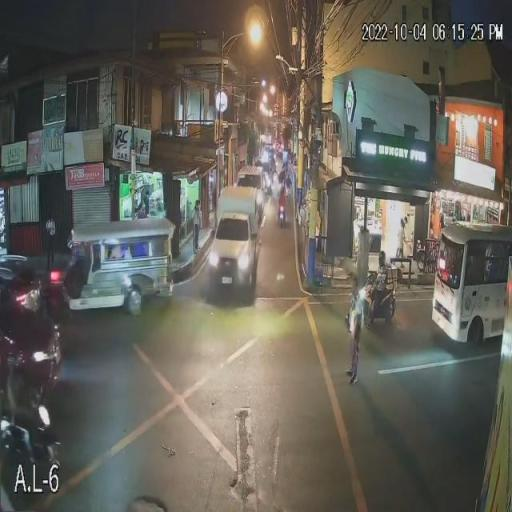helmet: (7, 346, 27, 370), (378, 251, 386, 266)
motorcycle: (0, 383, 58, 464), (366, 281, 396, 332), (276, 202, 290, 228)
rider: (4, 370, 50, 479), (369, 265, 386, 331), (277, 184, 289, 212)
